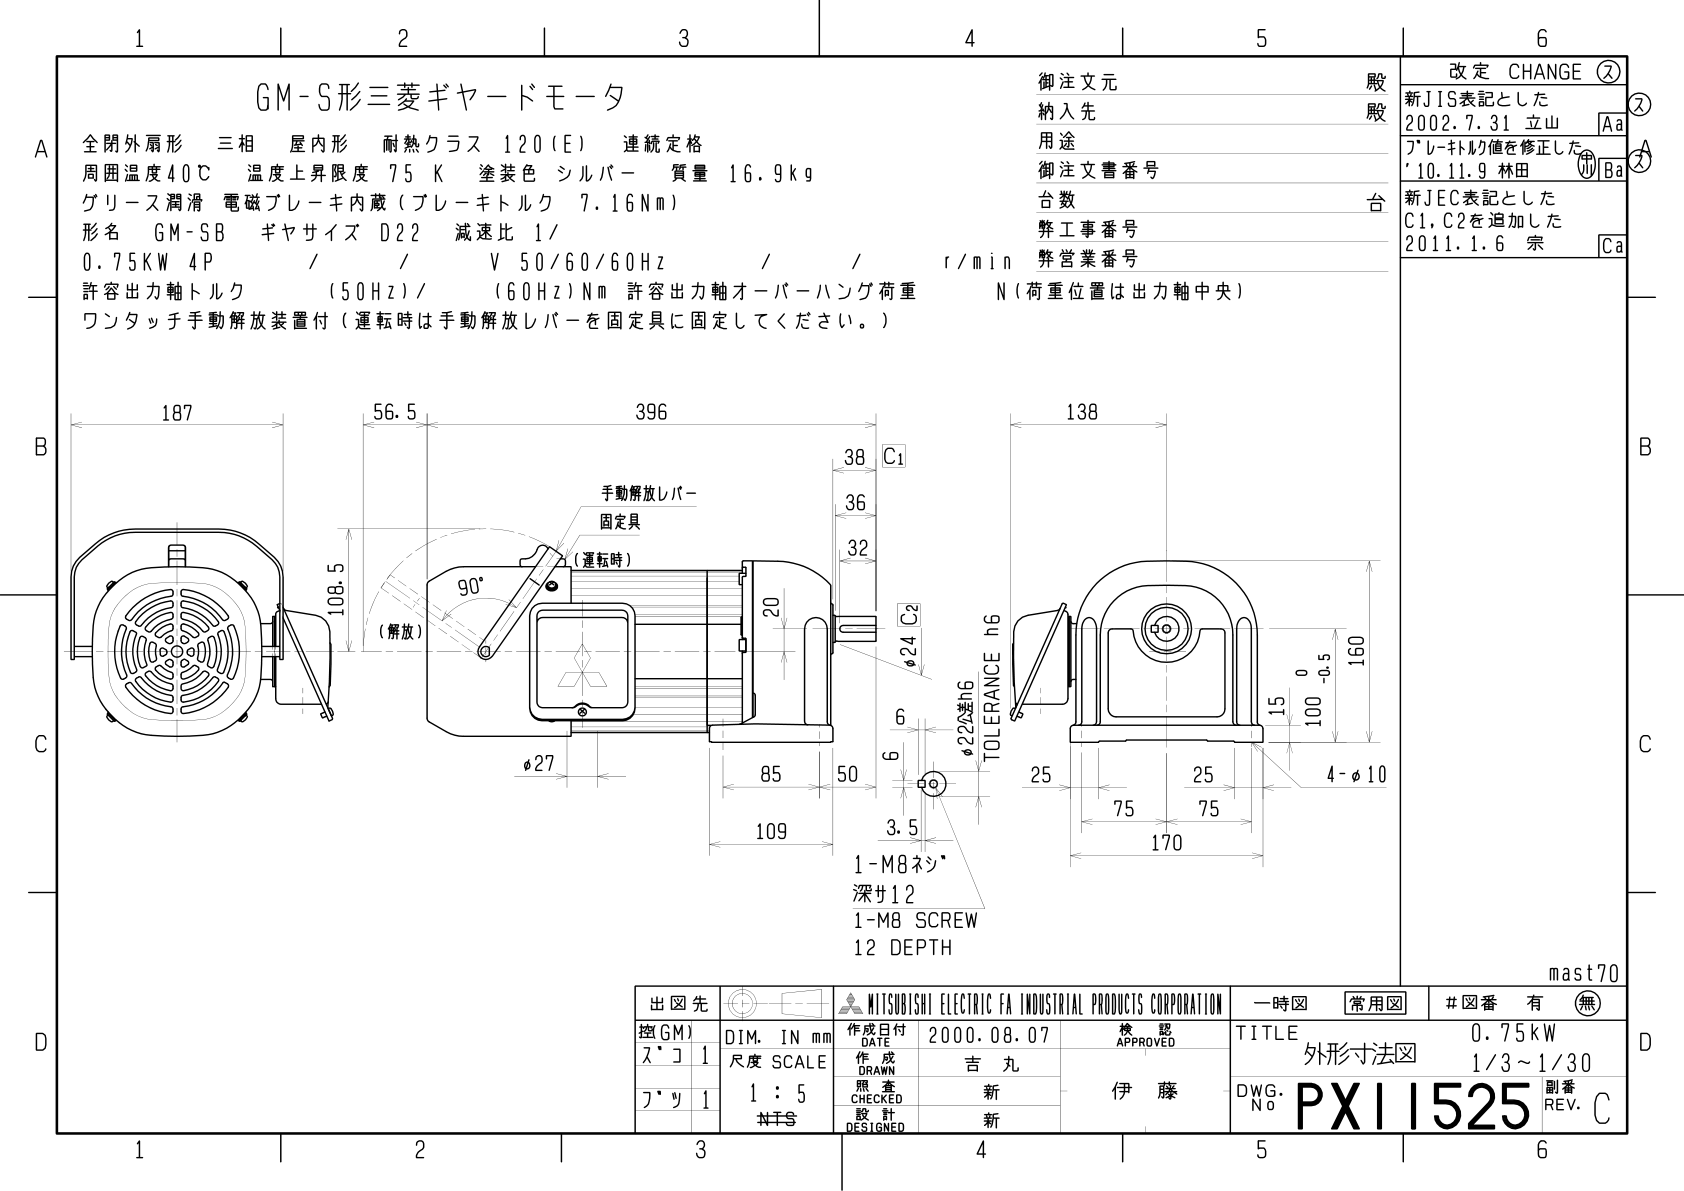GM_S_手動ブレーキ＿三相_脚: (4, 3, 1681, 1185)
